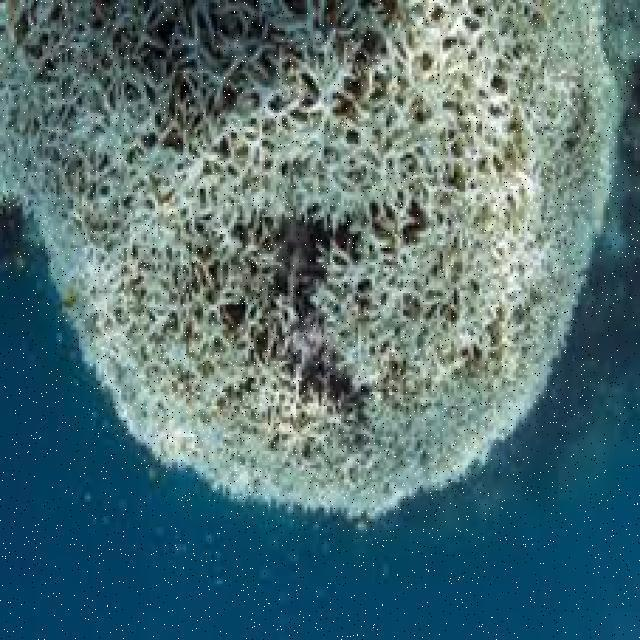Bleached: (1, 1, 640, 536)
